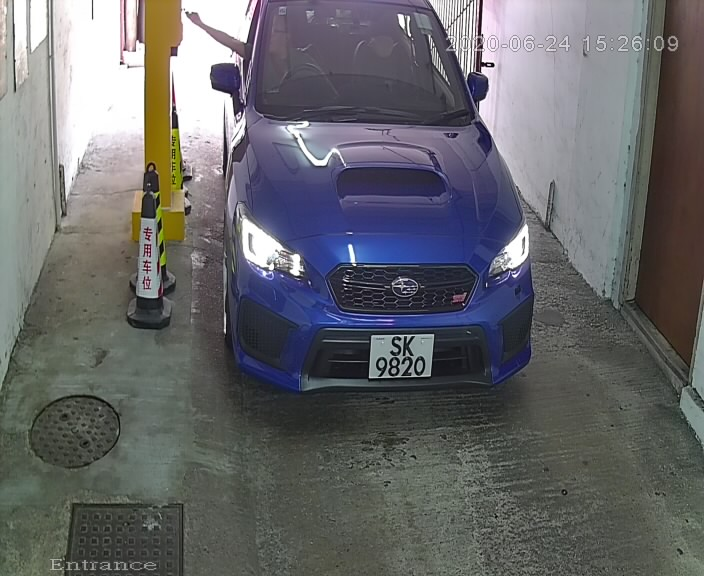Car: (198, 1, 554, 418)
License Plate: (367, 332, 442, 389)
